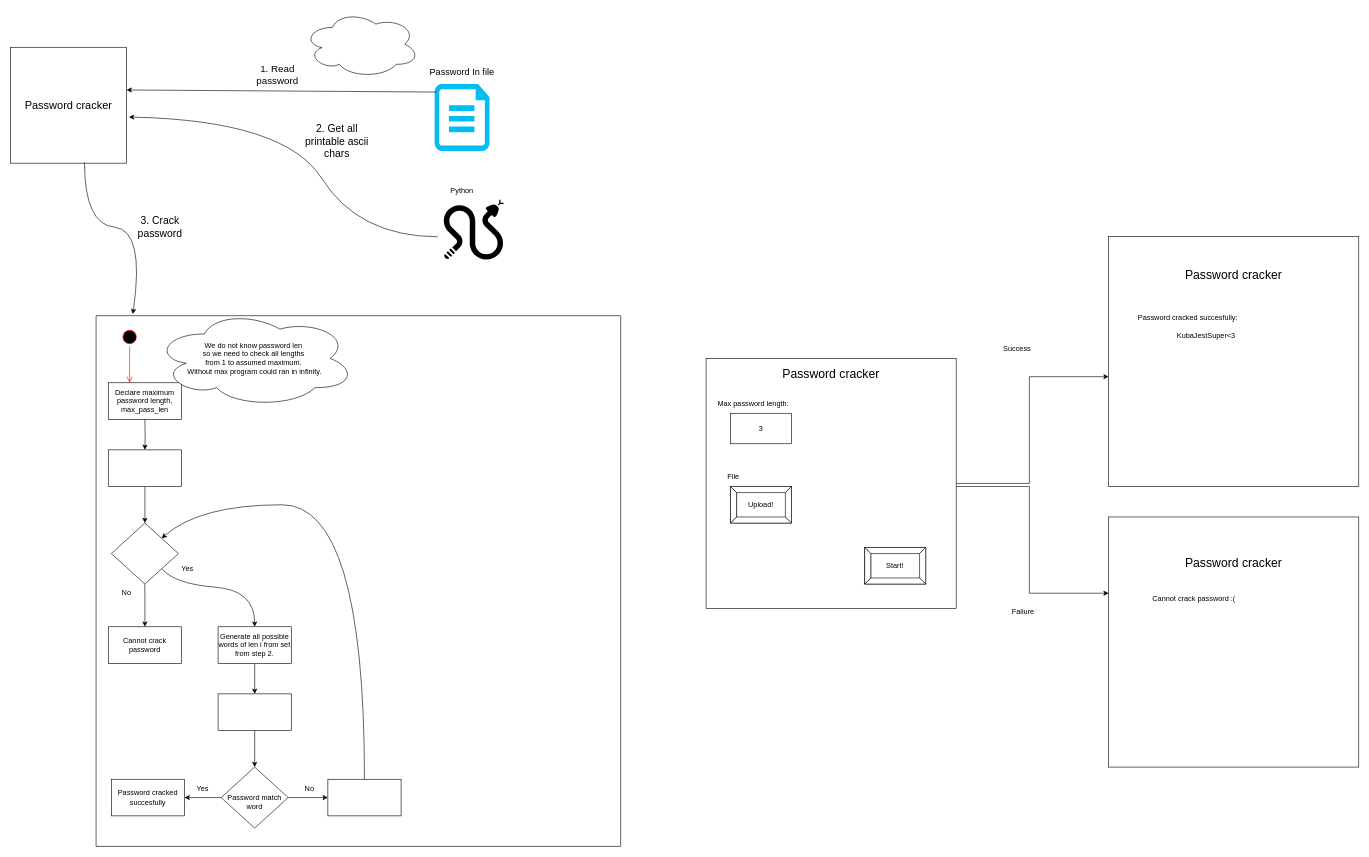
The diagram is 1369 pixels wide and 857 high, and some of its shapes have lost their labels. The box of each missing label's shape, as (x1, y1, x2, y2) in pixels:
Check each word if equal password from step 1.: (217, 693, 291, 730)
Declare i = 1: (108, 449, 181, 486)
i < max_pass_len: (111, 522, 178, 584)
i++: (327, 779, 401, 816)
We need to know password to validate a match.: (303, 10, 419, 78)
